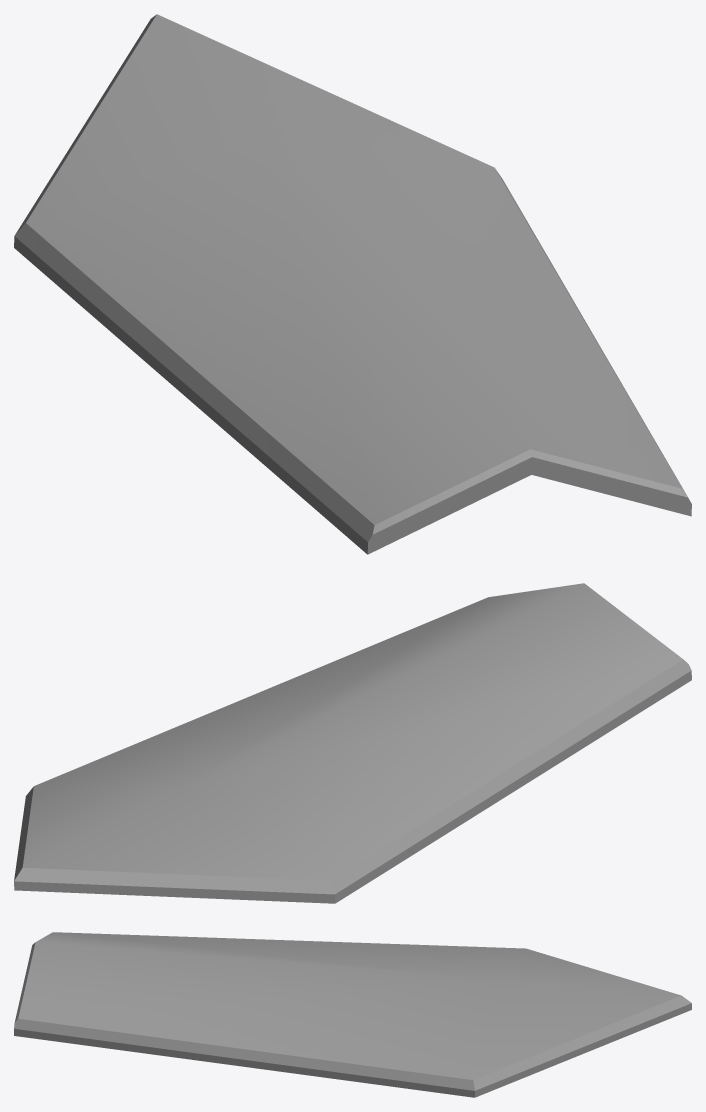
File: Armguard Broken 1.fbx
3 renders of one model, top to bottom at view 1: azimuth 30°, elevation 25°; view 2: azimuth 150°, elevation 25°; view 3: azimuth 270°, elevation 25°, orthographic. The views are drawn at different scales.
Parts seen in each view (by area): view 1: Armguard_Broken_1; view 2: Armguard_Broken_1; view 3: Armguard_Broken_1.
Boxes of the visible parts, x1=… form: Armguard_Broken_1: x1=14, y1=14, x2=691, y2=554; Armguard_Broken_1: x1=14, y1=583, x2=691, y2=903; Armguard_Broken_1: x1=14, y1=932, x2=691, y2=1097.
Bounding box in the file's own units: 14.06 × 2.62 × 28.29.
Materials: 1 (1 with a texture image).
